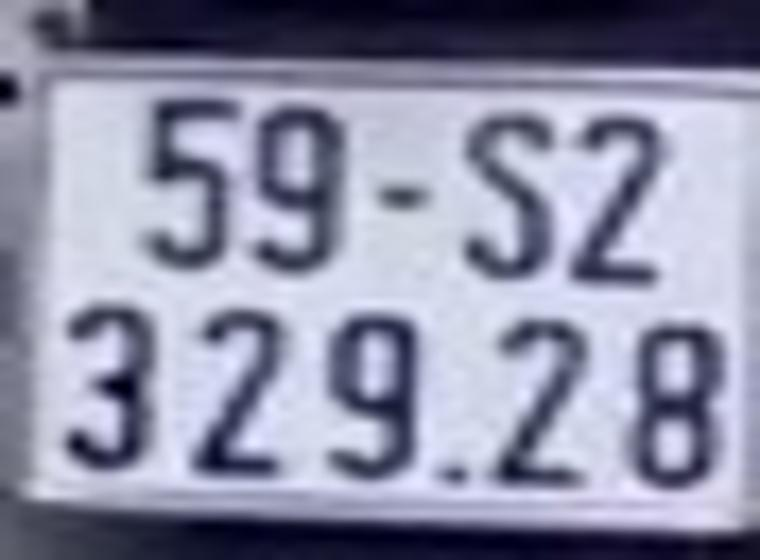-: (382, 171, 438, 228)
.: (438, 450, 471, 495)
2: (562, 96, 666, 294), (498, 314, 593, 496), (194, 301, 278, 478)
3: (632, 318, 739, 499), (64, 300, 165, 479)
5: (148, 82, 240, 280)
9: (250, 91, 340, 280), (323, 311, 417, 477)
S: (459, 105, 564, 296)
